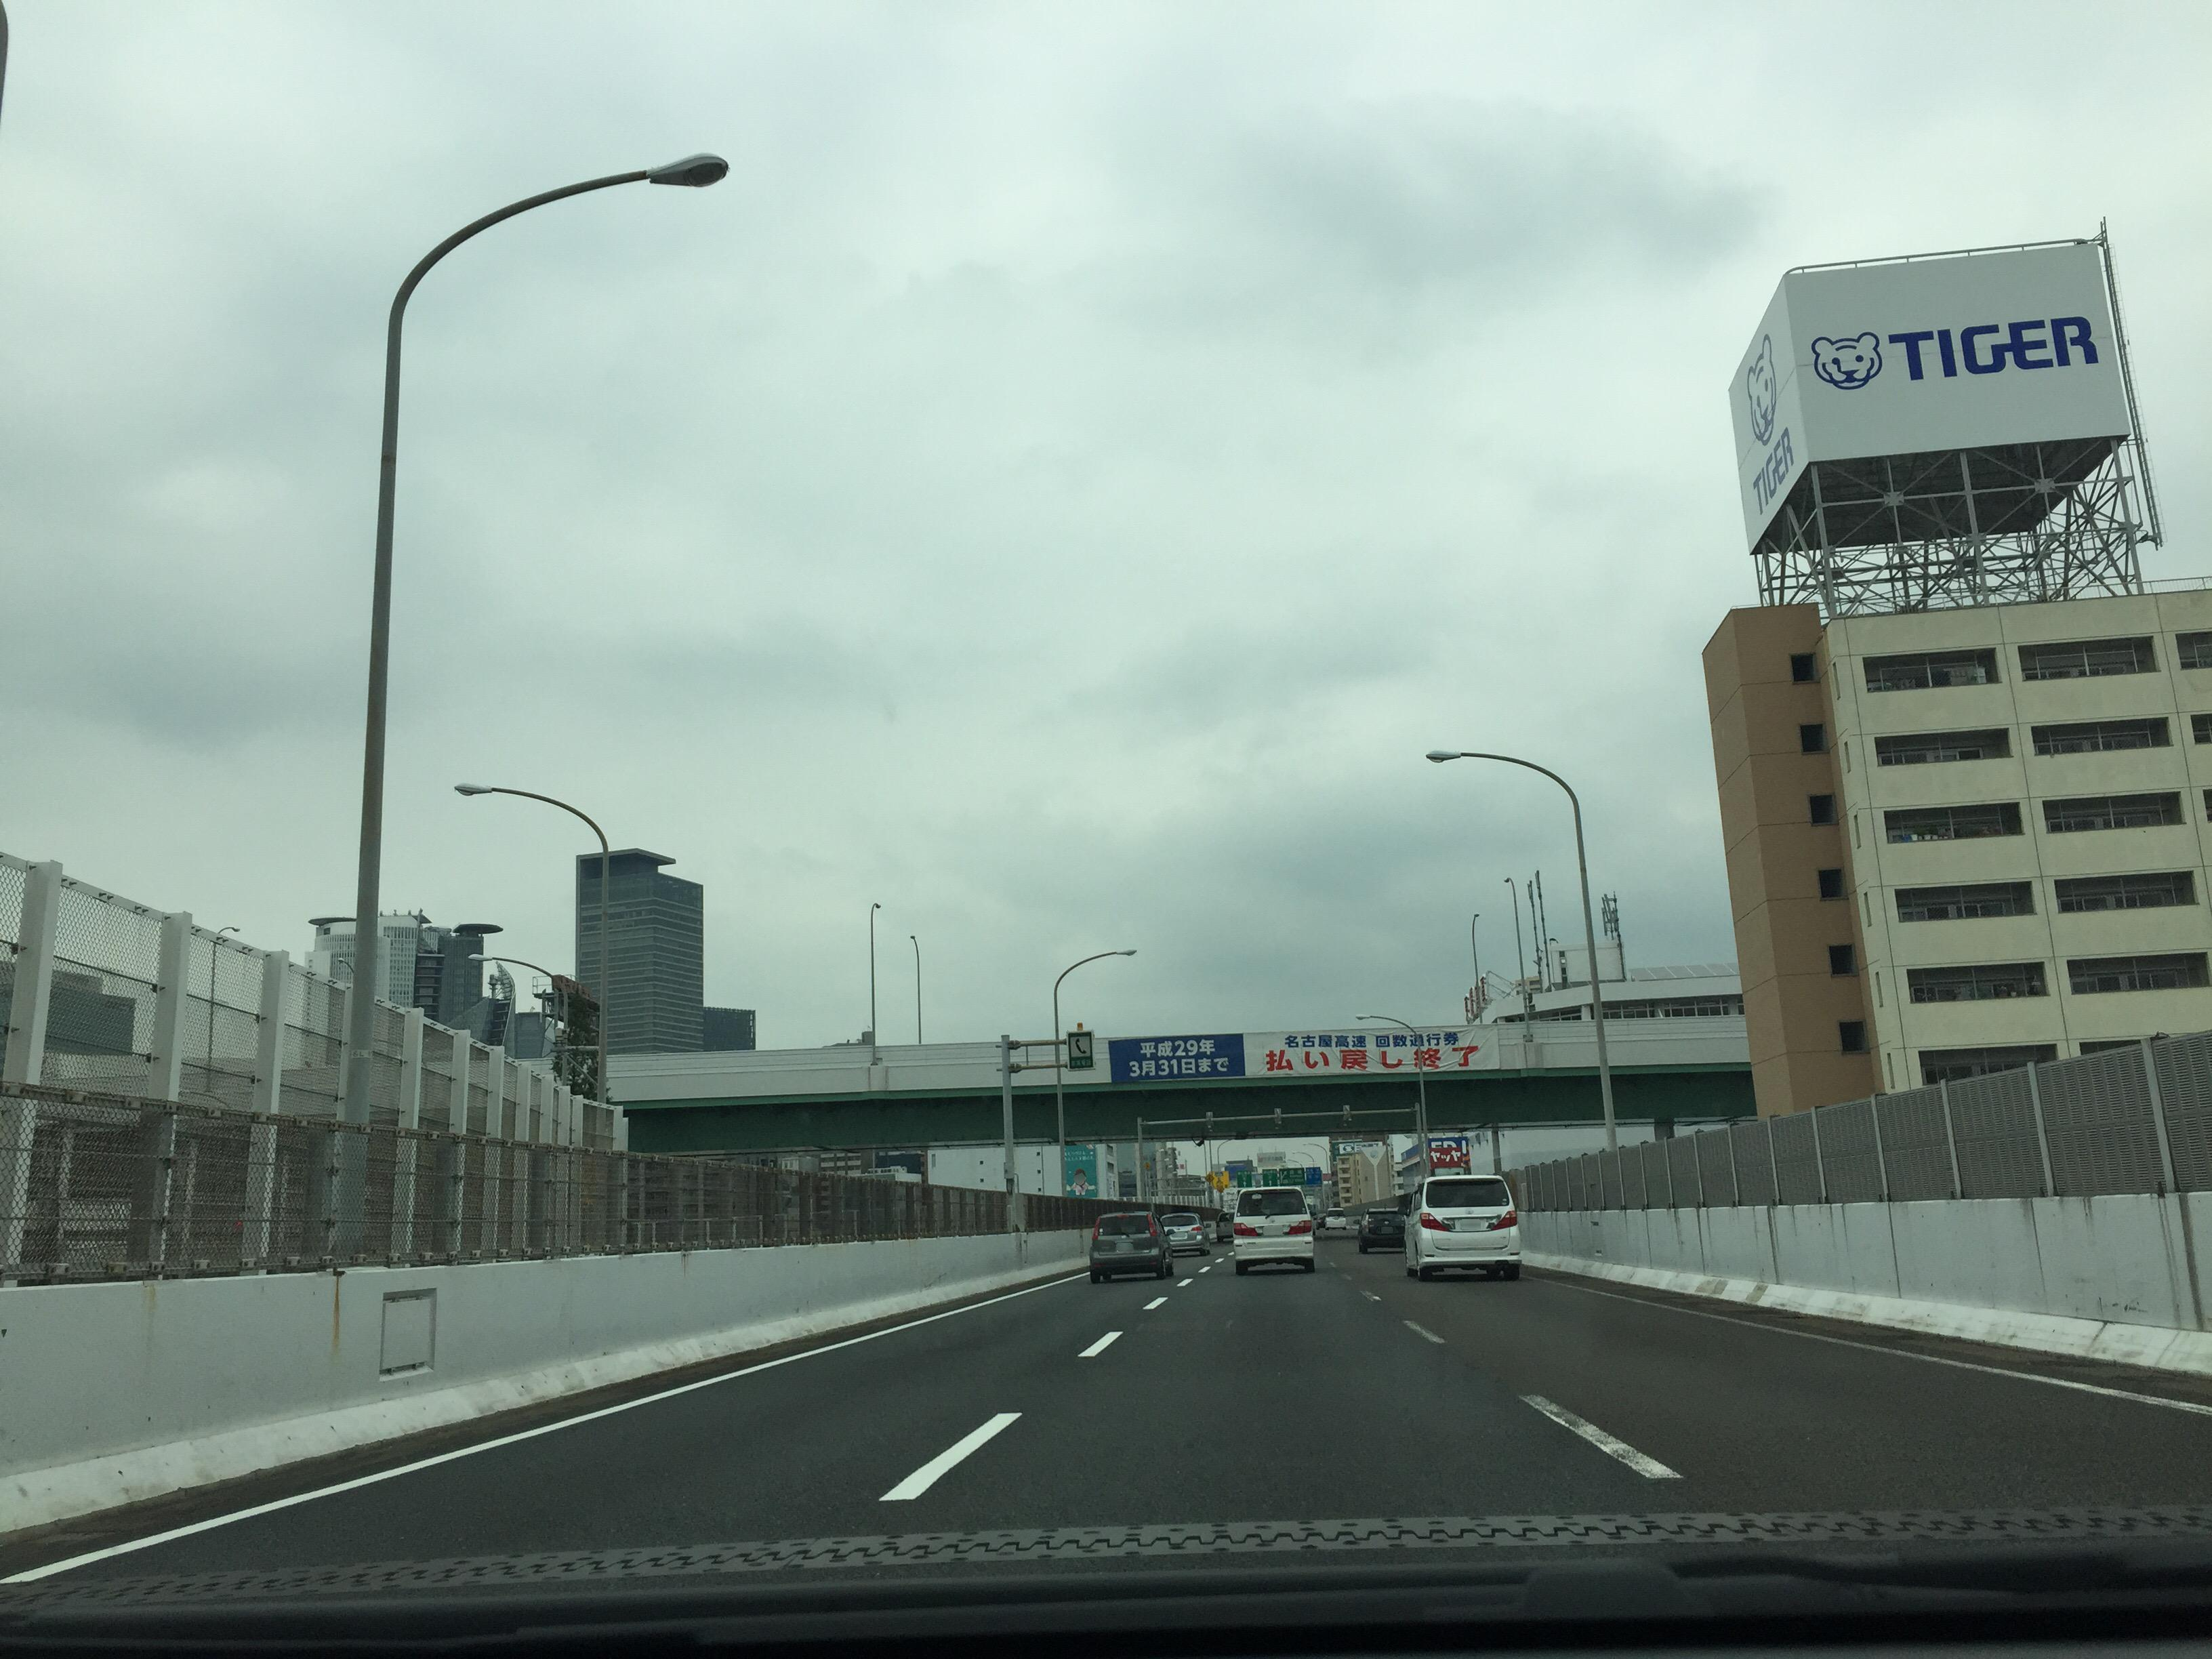vinyl banner: (1103, 1021, 1507, 1073)
